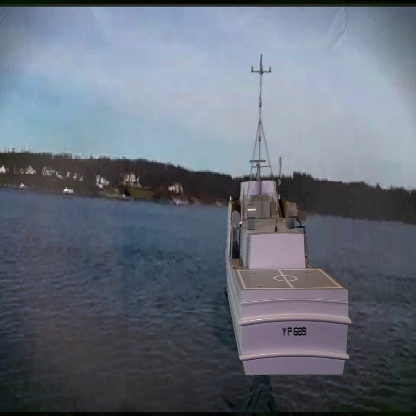YP689: (223, 53, 352, 379)
